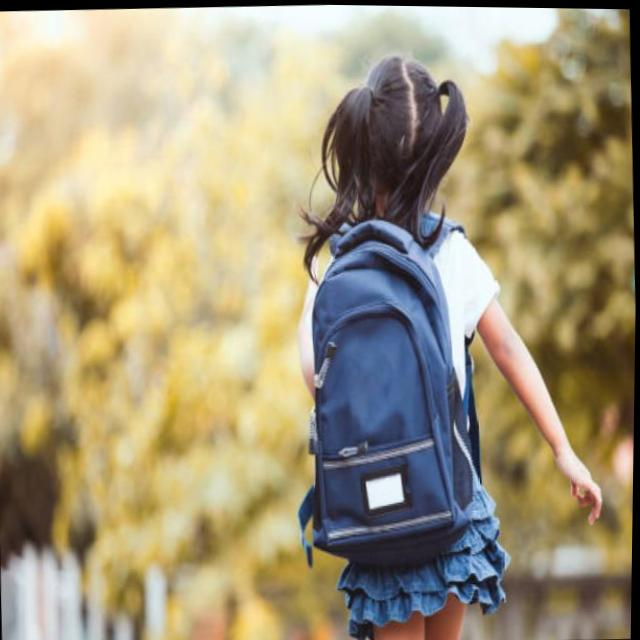no helmet: (324, 37, 478, 233)
